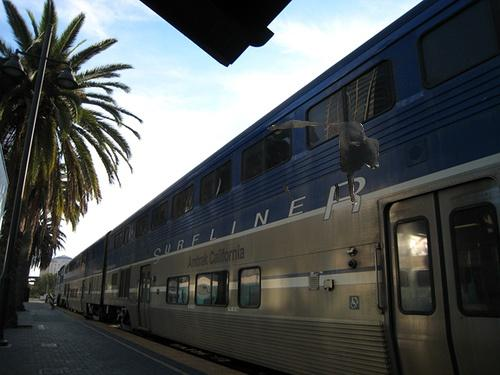tampered: (268, 120, 379, 205)
